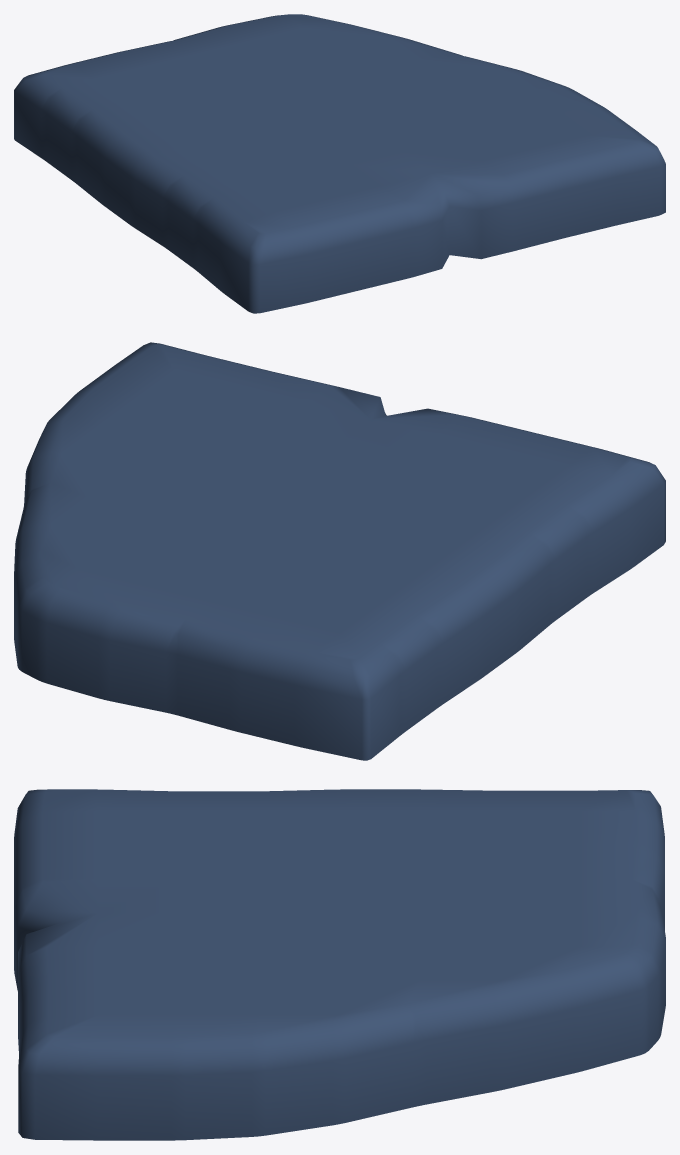
File: floor-tile-2.obj
3 renders of one model, top to bottom at view 1: azimuth 30°, elevation 25°; view 2: azimuth 150°, elevation 25°; view 3: azimuth 270°, elevation 25°, orthographic. The views are drawn at different scales.
Parts seen in each view (by area): view 1: Cube_Cube.041; view 2: Cube_Cube.041; view 3: Cube_Cube.041.
Part boxes in pixels (left/top/right/bottom): Cube_Cube.041: left=14, top=14, right=665, bottom=313; Cube_Cube.041: left=14, top=342, right=665, bottom=760; Cube_Cube.041: left=14, top=789, right=665, bottom=1140.
Bounding box in the file's own units: 0.9025 × 0.1405 × 0.9133.
